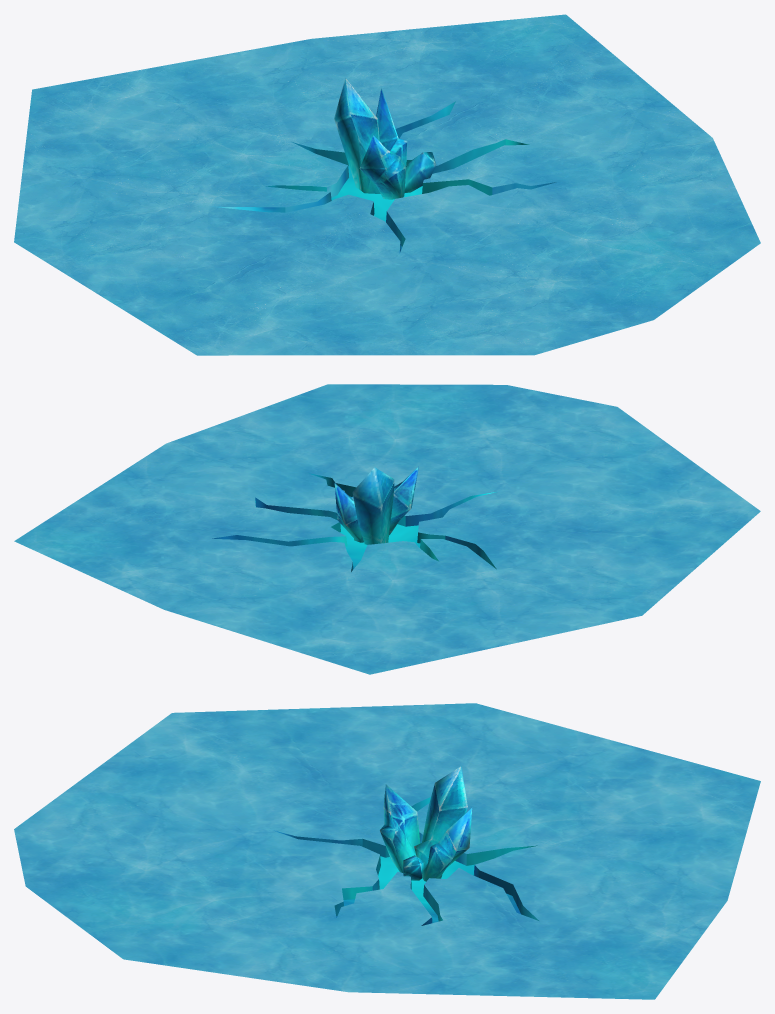
File: SM_crystal_07.fbx
The picture shows the model from 3 angles, top to bottom: view 1: azimuth 30°, elevation 25°; view 2: azimuth 150°, elevation 25°; view 3: azimuth 270°, elevation 25°; orthographic projection. The views are drawn at different scales.
Visible parts, largest first — view 1: SM_crystal_07; view 2: SM_crystal_07; view 3: SM_crystal_07.
Part boxes in pixels (bbox=[...]): SM_crystal_07: bbox=[14, 14, 760, 355]; SM_crystal_07: bbox=[14, 384, 760, 674]; SM_crystal_07: bbox=[14, 703, 760, 999].
Bounding box in the file's own units: 9.31 × 1.61 × 9.91.
